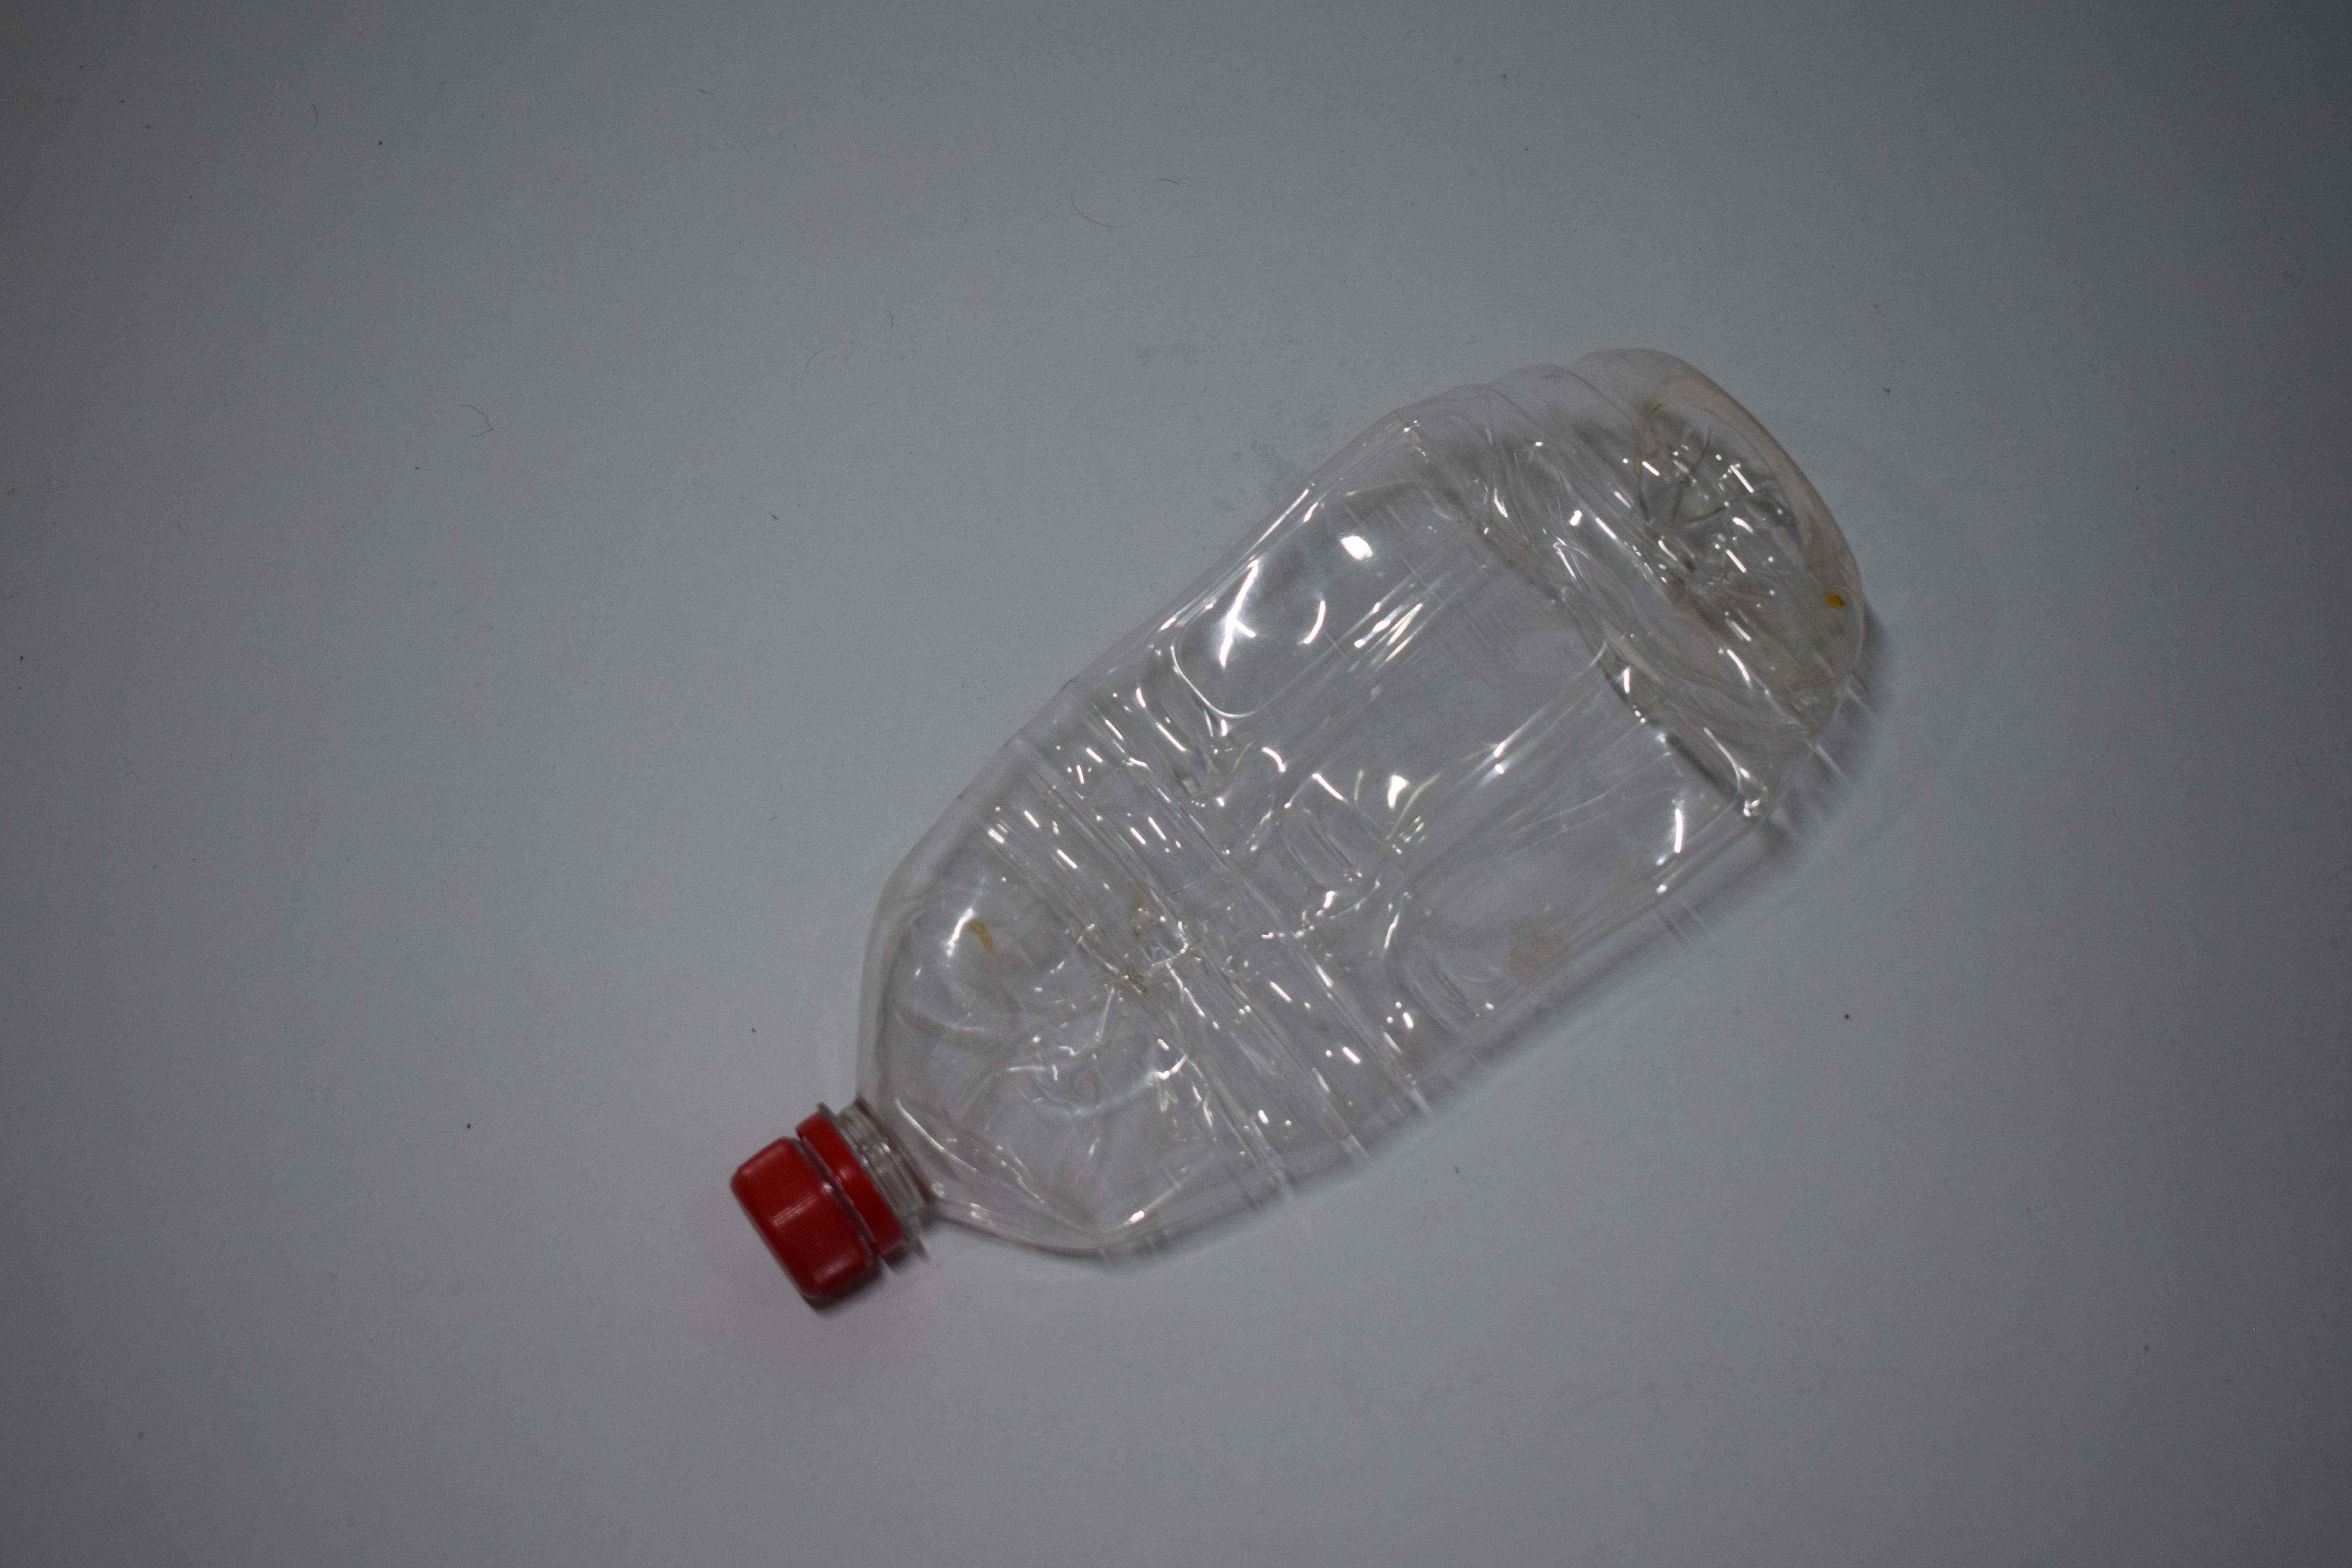bottle: (0, 0, 585, 537)
